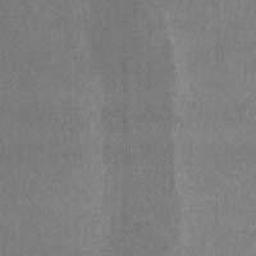Oil spot: (73, 0, 187, 256)
